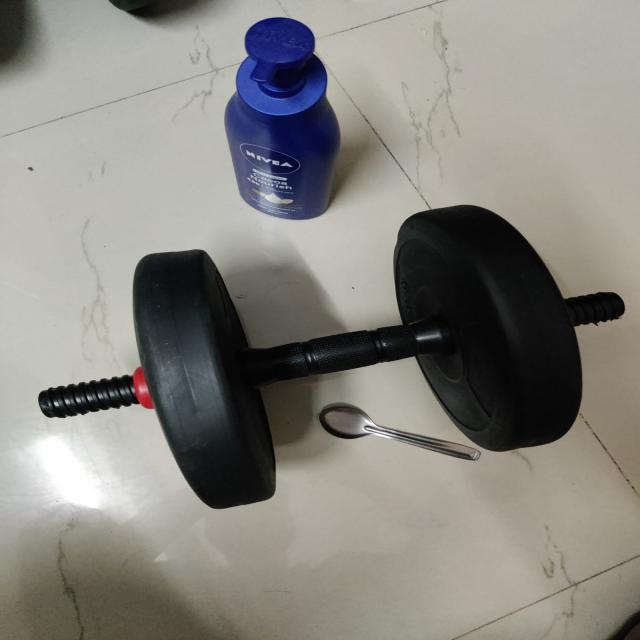dry: (0, 211, 640, 487), (194, 0, 364, 230)
